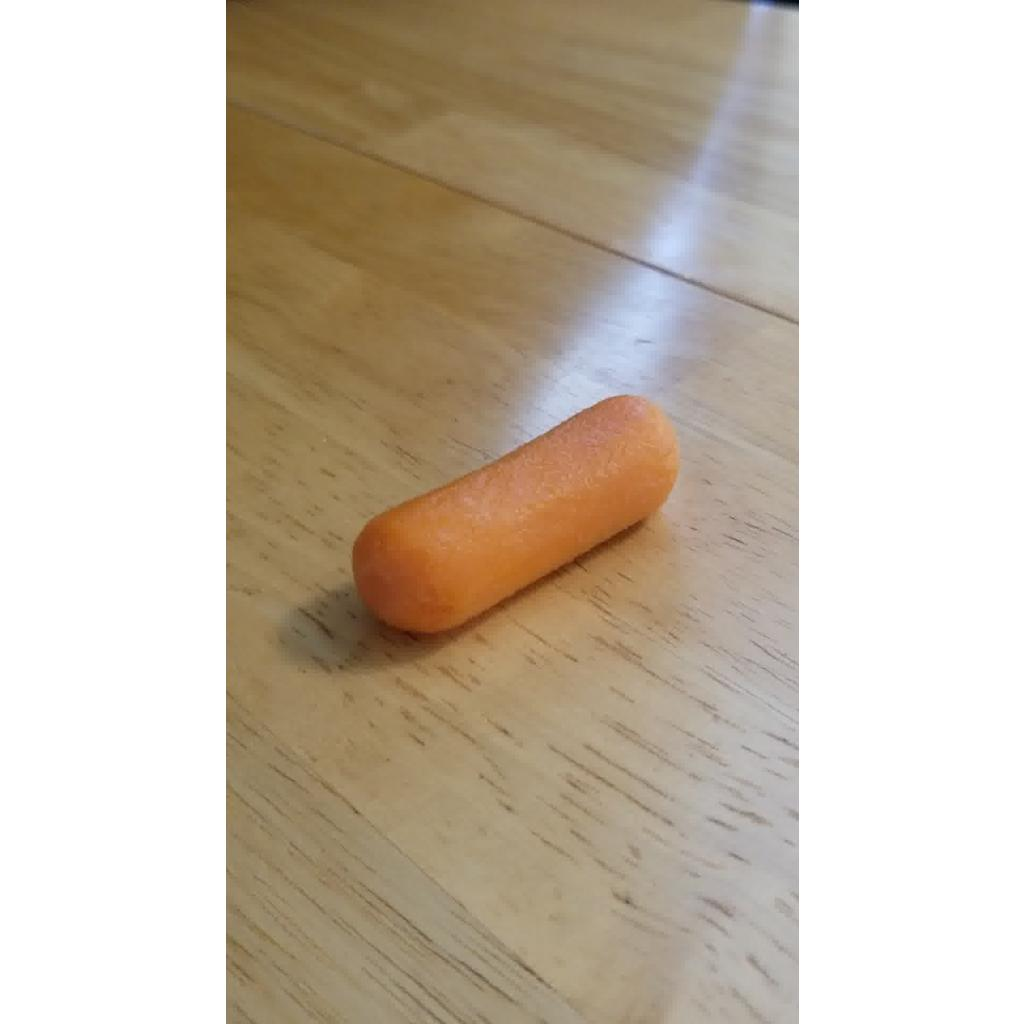carrot: (351, 396, 679, 632)
